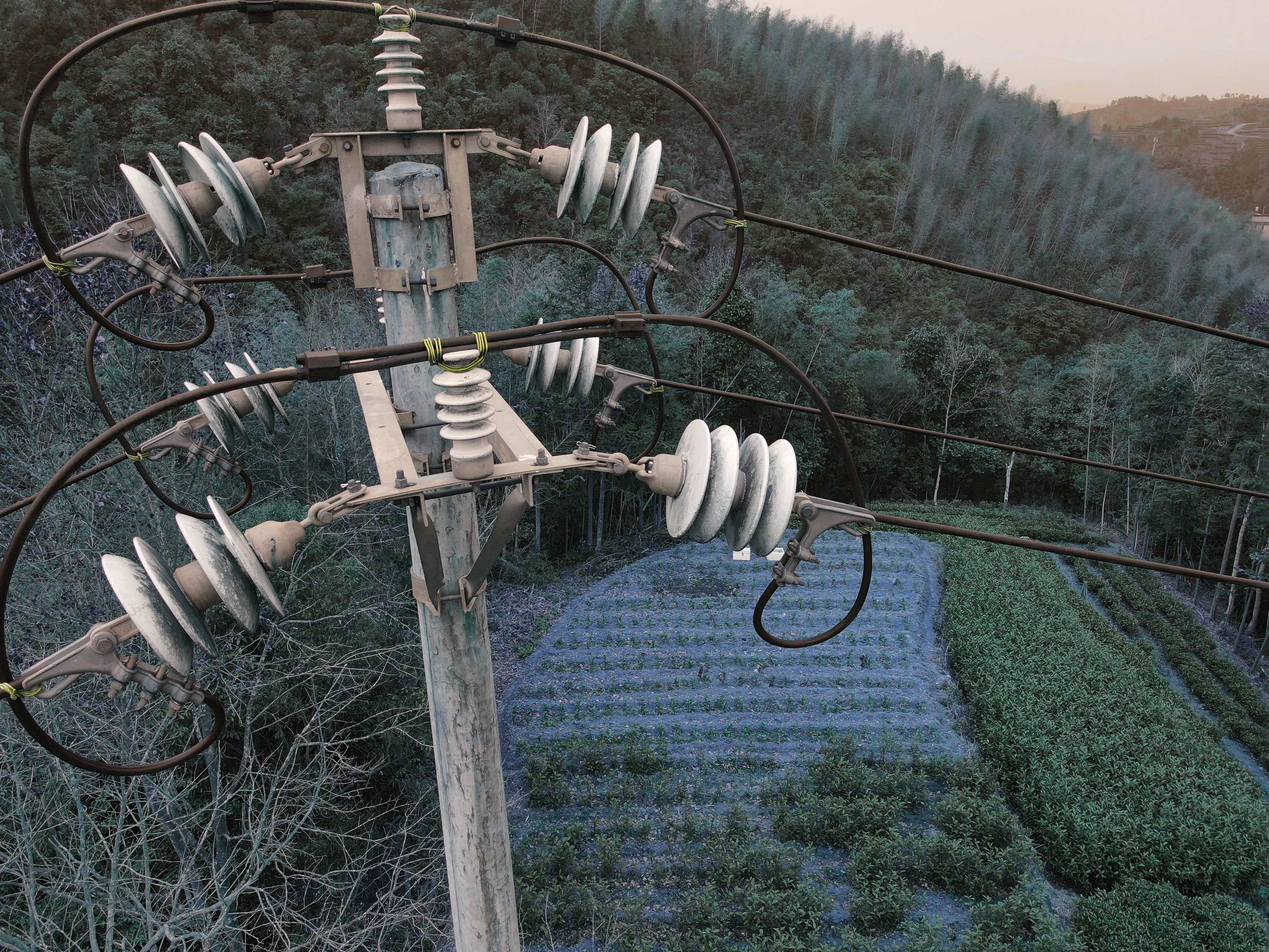severe_soiling_no_discharge_whole: (95, 491, 314, 674), (631, 417, 805, 563), (115, 127, 276, 274), (530, 117, 668, 239), (182, 347, 302, 458), (425, 340, 505, 481), (506, 317, 602, 407), (368, 10, 428, 132)
